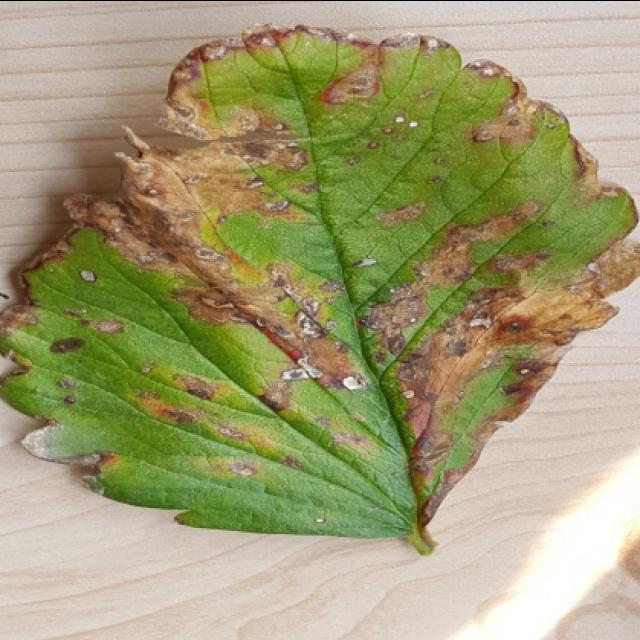Angular Leafspot: (0, 22, 638, 539)
